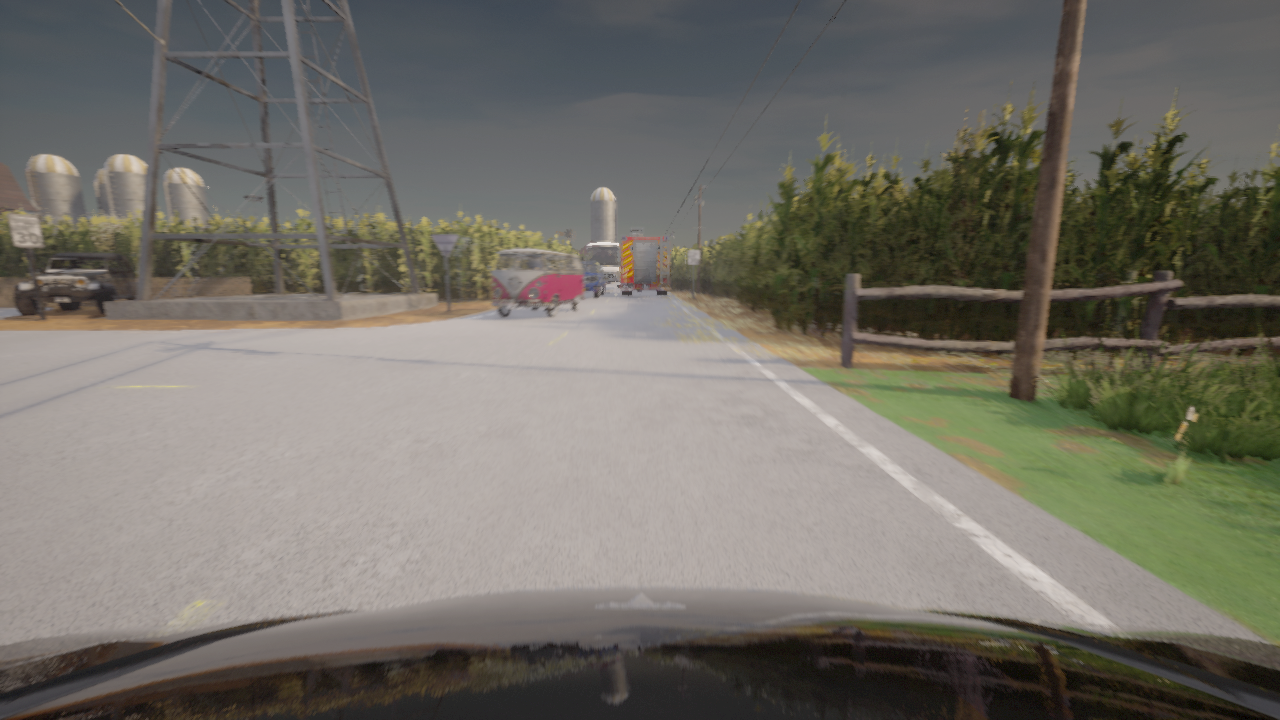cyclist: (0, 588, 1279, 719), (13, 253, 137, 315), (488, 248, 584, 317), (617, 227, 670, 296), (580, 241, 619, 289), (580, 261, 603, 298)
